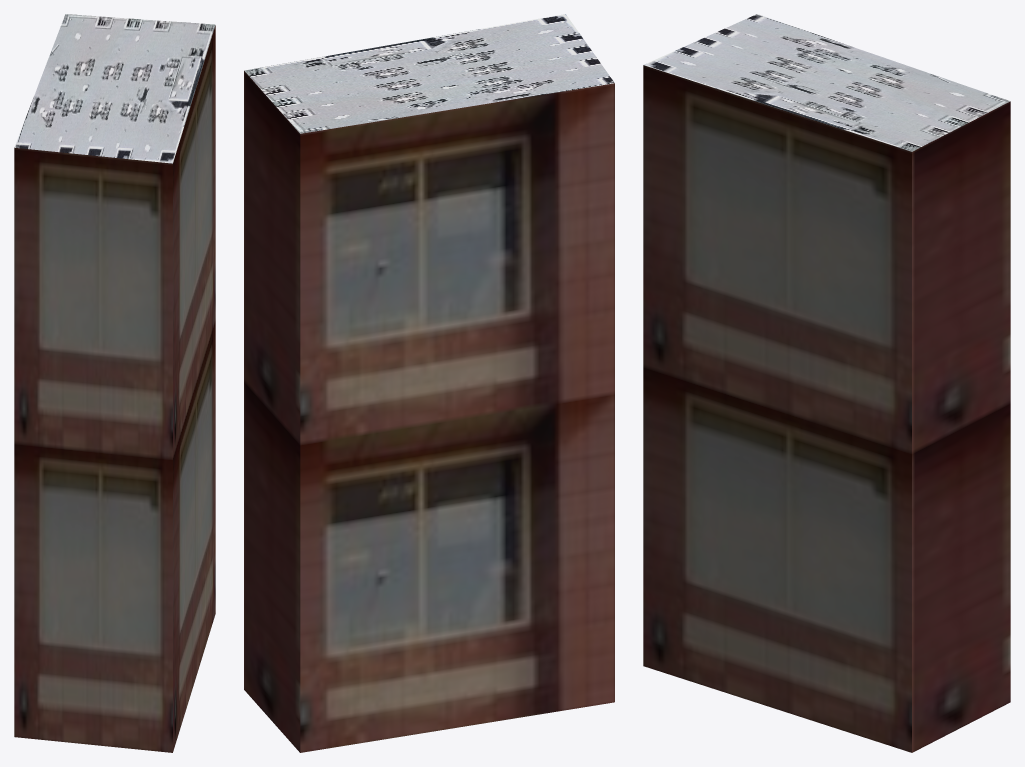
The model's file is ResTex__3437.fbx.
The picture shows the model from 3 angles, left to right: view 1: azimuth 30°, elevation 25°; view 2: azimuth 150°, elevation 25°; view 3: azimuth 270°, elevation 25°; orthographic projection. The views are drawn at different scales.
Parts seen in each view (by area): view 1: CityEngineMaterial_13_m, CityEngineMaterial_8_m; view 2: CityEngineMaterial_13_m, CityEngineMaterial_8_m; view 3: CityEngineMaterial_13_m, CityEngineMaterial_8_m.
Part boxes in pixels (x1,y1,x2,y2): CityEngineMaterial_13_m: [14, 25, 215, 752]; CityEngineMaterial_8_m: [14, 14, 215, 163]; CityEngineMaterial_13_m: [244, 71, 614, 752]; CityEngineMaterial_8_m: [244, 14, 614, 133]; CityEngineMaterial_13_m: [643, 65, 1010, 752]; CityEngineMaterial_8_m: [644, 14, 1010, 151].
Bounding box in the file's own units: 2.95 × 6 × 3.32.
2 materials, 2 textured.
